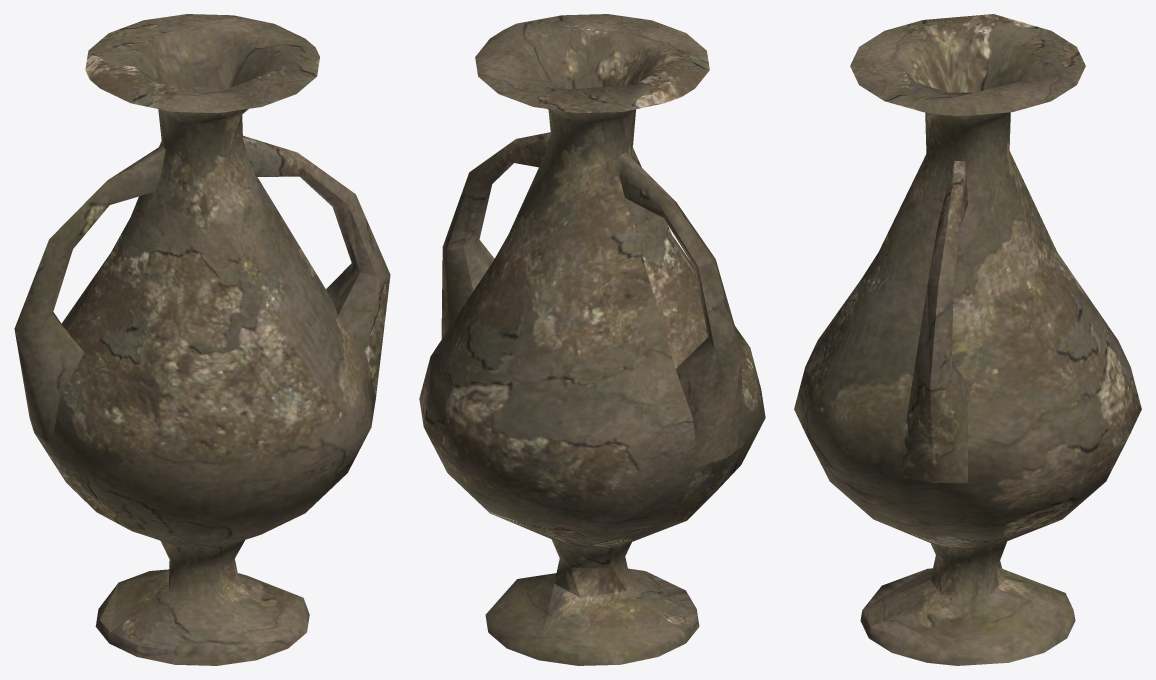
File: amphora.dae
The picture shows the model from 3 angles, left to right: view 1: azimuth 30°, elevation 25°; view 2: azimuth 150°, elevation 25°; view 3: azimuth 270°, elevation 25°; orthographic projection.
Visible parts, largest first — view 1: Default_Layer; view 2: Default_Layer; view 3: Default_Layer.
Part boxes in pixels (x1,y1,x2,y2): Default_Layer: (14, 14, 390, 665); Default_Layer: (419, 14, 765, 665); Default_Layer: (794, 14, 1141, 665).
Size of the model in its own units: 0.4938 by 0.7916 by 0.4427.
